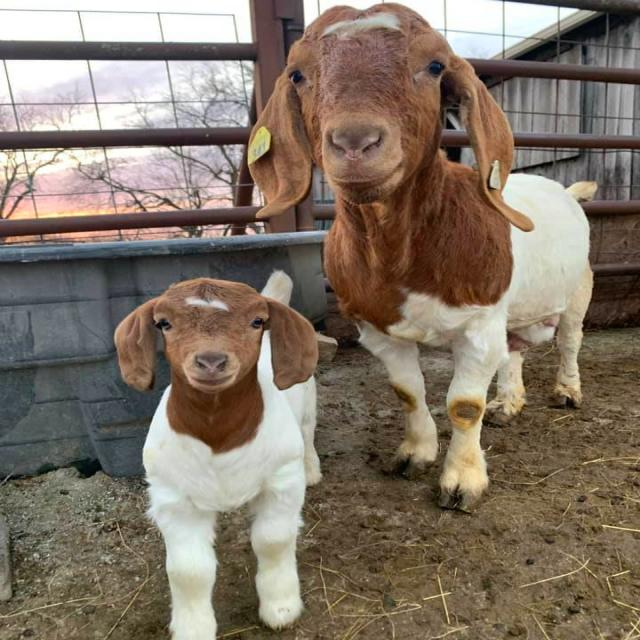goat: (247, 3, 596, 511), (114, 270, 336, 639)
